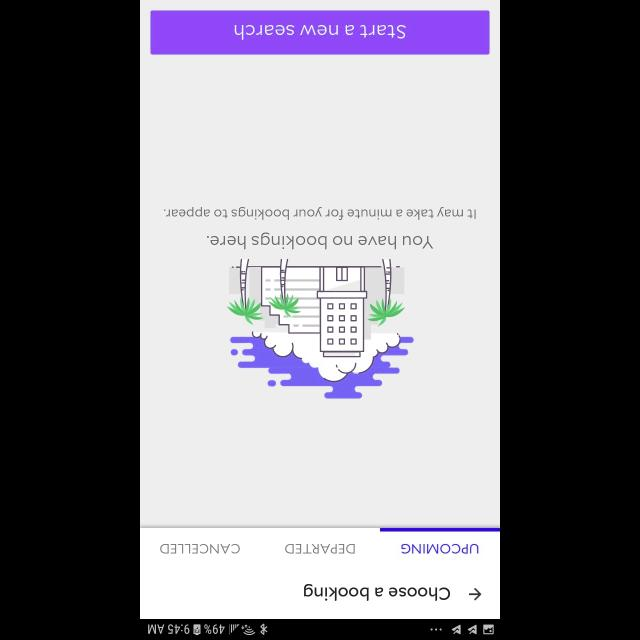icon: (468, 588, 480, 600)
image: (226, 259, 414, 399)
text: (164, 207, 476, 221), (206, 232, 434, 250), (304, 583, 450, 601), (160, 543, 240, 553), (400, 543, 478, 553), (285, 543, 355, 553)
textbutton: (150, 11, 490, 55)
uppertaskbar: (140, 618, 500, 640)
